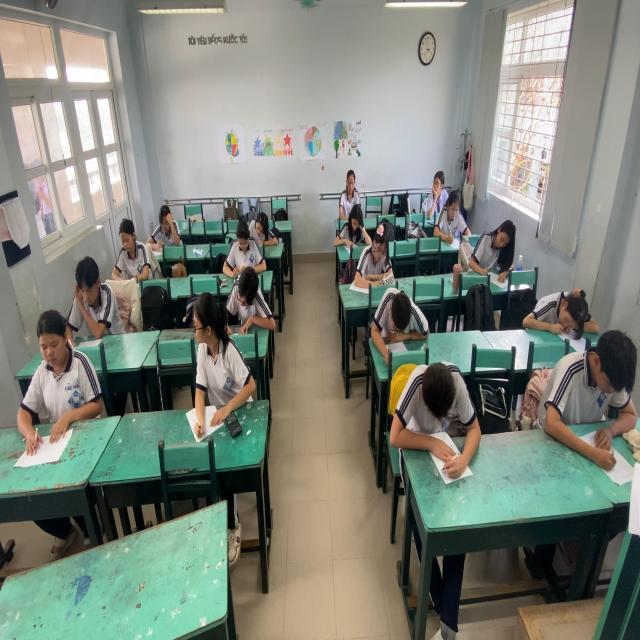cheating: (186, 294, 251, 441), (416, 165, 452, 229)
not_cheating: (539, 324, 640, 501), (10, 303, 106, 472), (392, 356, 472, 500), (516, 266, 590, 354), (64, 252, 115, 363), (368, 280, 425, 364), (460, 208, 512, 296), (104, 212, 148, 296), (351, 219, 395, 303), (227, 268, 267, 348), (222, 222, 265, 290), (430, 185, 472, 254), (146, 195, 182, 262), (332, 202, 366, 264), (239, 202, 273, 260), (333, 168, 361, 226)
